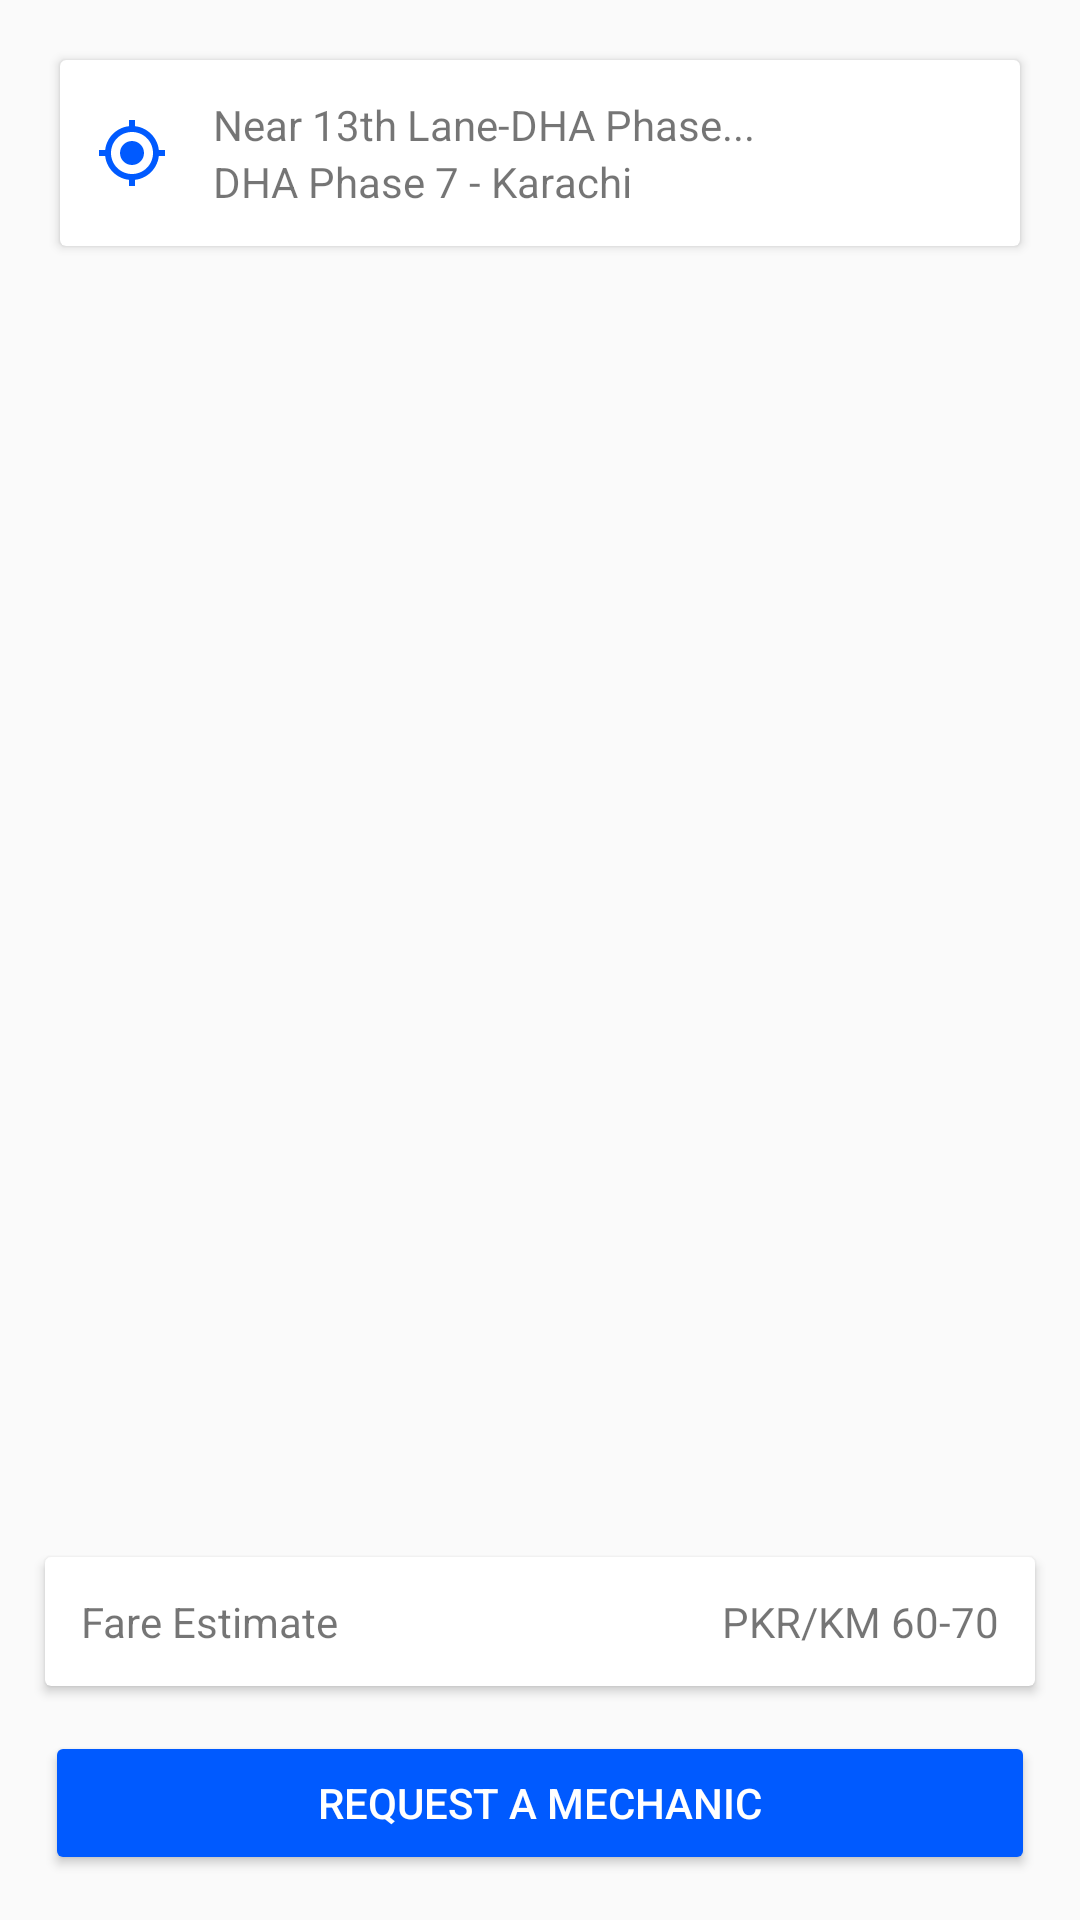

Locate icon controls on the screen. Image size 1080*1920, boxes as {"left": x1, "top": y1, "right": x2, "bottom": y2}.
location: {"left": 99, "top": 120, "right": 165, "bottom": 186}
